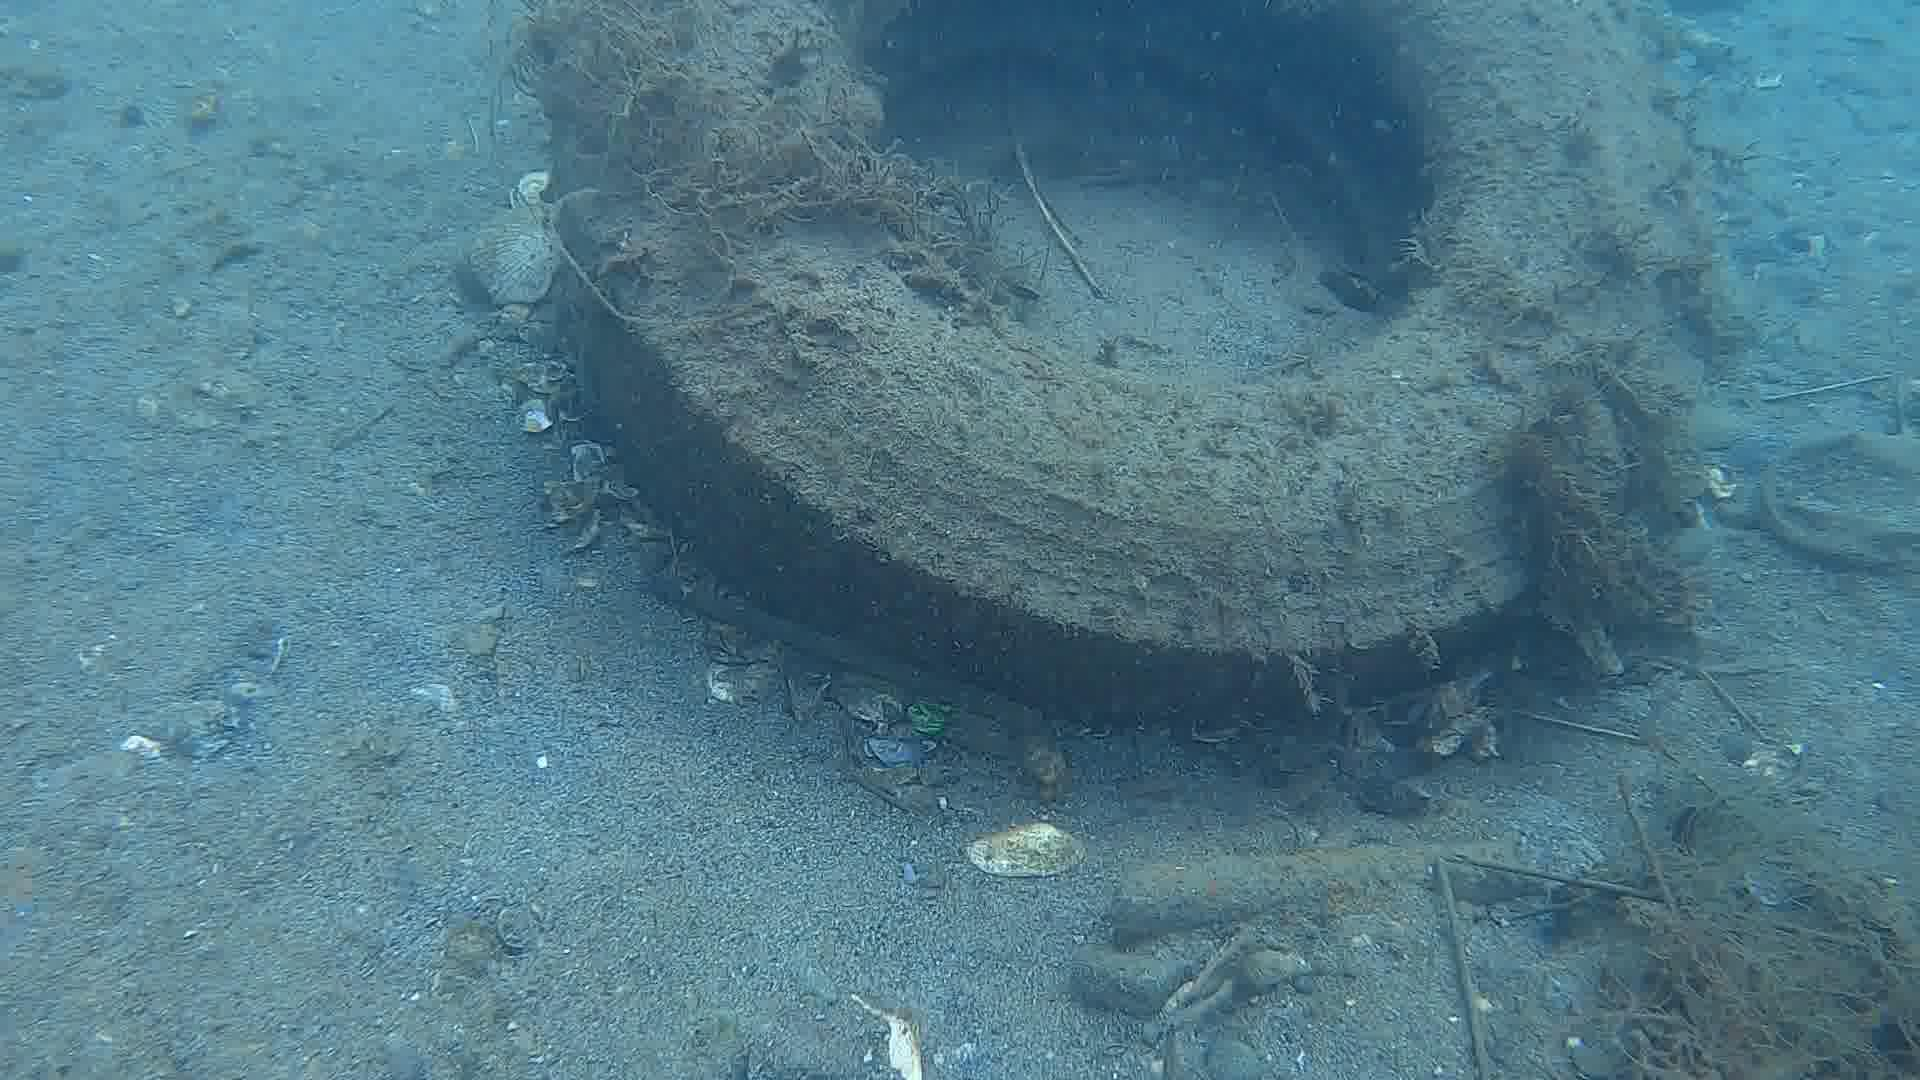tire: (549, 0, 1709, 742)
